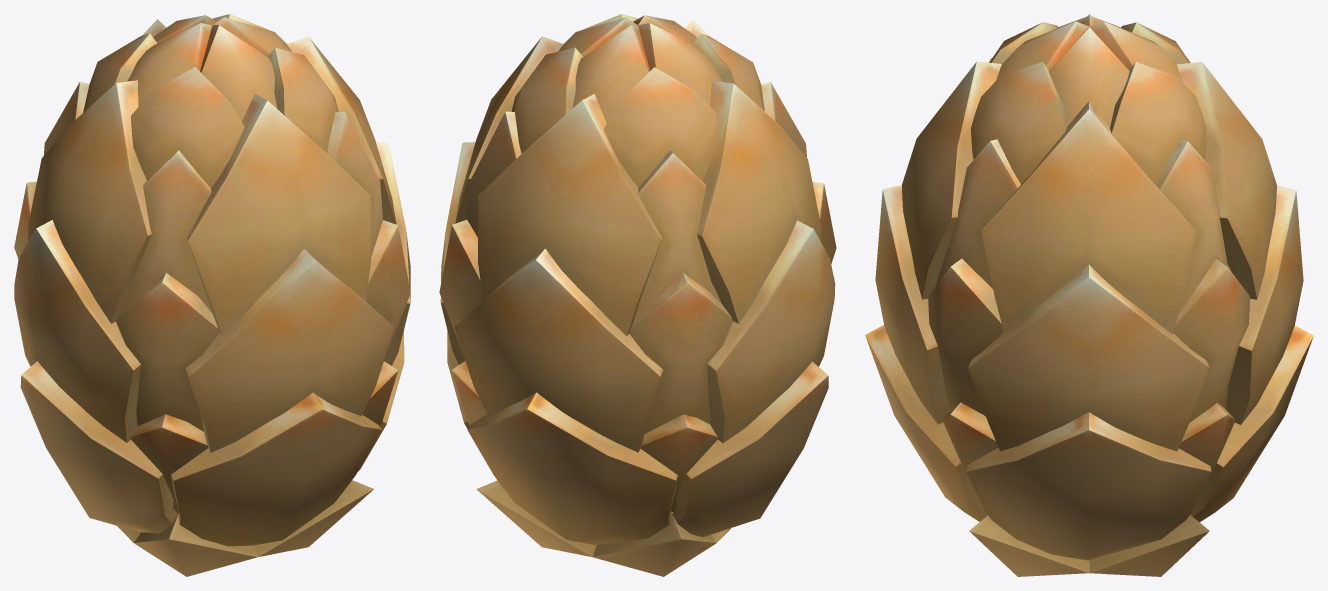
Rendered from p_egg_4.fbx.
The picture shows the model from 3 angles, left to right: view 1: azimuth 30°, elevation 25°; view 2: azimuth 150°, elevation 25°; view 3: azimuth 270°, elevation 25°; orthographic projection.
Parts seen in each view (by area): view 1: egg; view 2: egg; view 3: egg.
Part boxes in pixels (bbox=[...]): egg: bbox=[14, 14, 410, 576]; egg: bbox=[439, 14, 836, 576]; egg: bbox=[865, 14, 1313, 576].
Size of the model in its own units: 1.03 by 1.39 by 1.03.
1 material, 1 textured.
